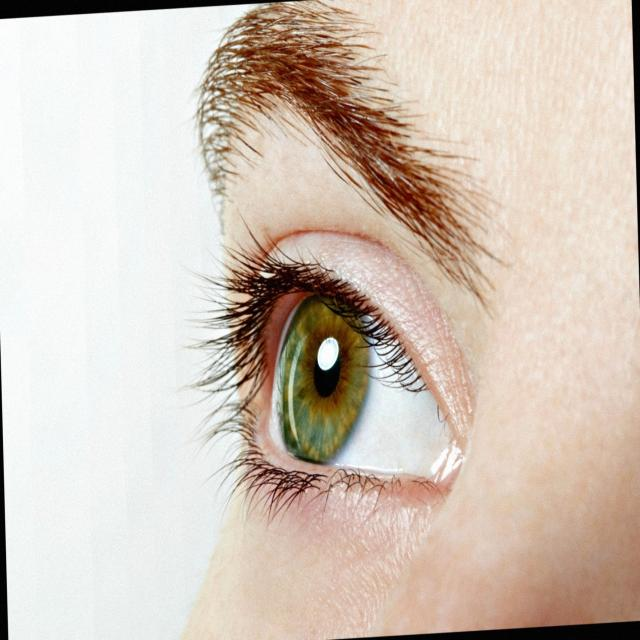Healthy-Eye: (194, 191, 488, 520)
